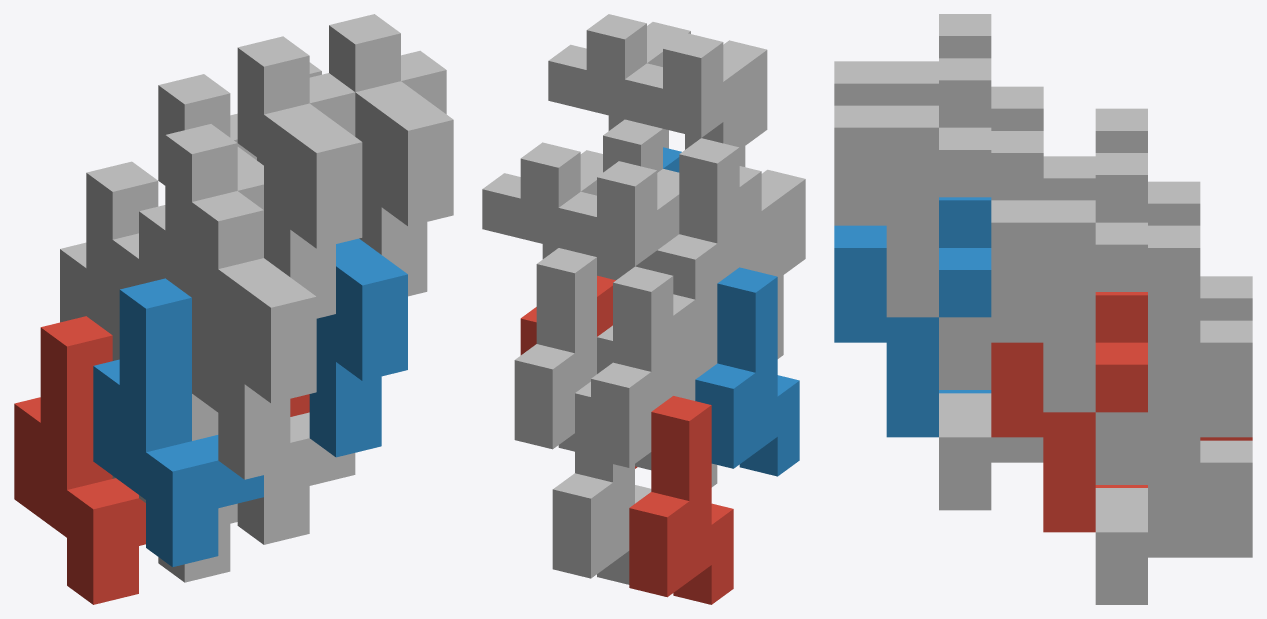
The model's file is tiling.obj.
The picture shows the model from 3 angles, left to right: view 1: azimuth 30°, elevation 25°; view 2: azimuth 150°, elevation 25°; view 3: azimuth 270°, elevation 25°; orthographic projection. The views are drawn at different scales.
Visible parts, largest first — view 1: copy_1_domain_2, copy_2_domain_2, copy_2_domain_4, copy_1_domain_1, copy_2_domain_8, copy_2_domain_6, copy_1_domain_4, copy_1_domain_3, copy_1_domain_6, copy_2_domain_3, copy_2_domain_1, copy_1_domain_5; view 2: copy_1_domain_1, copy_1_domain_2, copy_1_domain_3, copy_2_domain_4, copy_1_domain_7, copy_1_domain_4, copy_1_domain_5, copy_2_domain_3, copy_2_domain_8, copy_2_domain_7, copy_2_domain_2, copy_2_domain_1 (+2 smaller); view 3: copy_2_domain_8, copy_2_domain_7, copy_1_domain_7, copy_2_domain_6, copy_1_domain_5, copy_2_domain_5, copy_1_domain_8, copy_1_domain_6, copy_2_domain_4, copy_1_domain_3, copy_2_domain_3, copy_1_domain_4.
Boxes of the visible parts, <box> form: copy_1_domain_2: <box>93,278,263,567</box>; copy_2_domain_2: <box>192,191,316,479</box>; copy_2_domain_4: <box>237,36,362,318</box>; copy_1_domain_1: <box>14,316,145,604</box>; copy_2_domain_8: <box>329,14,453,296</box>; copy_2_domain_6: <box>309,238,407,457</box>; copy_1_domain_4: <box>139,124,237,412</box>; copy_1_domain_3: <box>60,161,158,360</box>; copy_1_domain_6: <box>237,412,355,544</box>; copy_2_domain_3: <box>158,74,263,209</box>; copy_2_domain_1: <box>112,233,218,502</box>; copy_1_domain_5: <box>112,476,237,582</box>; copy_1_domain_1: <box>629,396,733,604</box>; copy_1_domain_2: <box>695,267,799,476</box>; copy_1_domain_3: <box>591,266,695,469</box>; copy_2_domain_4: <box>625,32,767,166</box>; copy_1_domain_7: <box>514,248,596,451</box>; copy_1_domain_4: <box>657,138,761,339</box>; copy_1_domain_5: <box>552,381,651,584</box>; copy_2_domain_3: <box>558,161,679,277</box>; copy_2_domain_8: <box>548,14,690,148</box>; copy_2_domain_7: <box>482,142,602,258</box>; copy_2_domain_2: <box>739,166,805,358</box>; copy_2_domain_1: <box>597,294,717,487</box>; copy_2_domain_8: <box>834,58,991,317</box>; copy_2_domain_7: <box>991,153,1147,412</box>; copy_1_domain_7: <box>1095,225,1252,484</box>; copy_2_domain_6: <box>834,197,991,437</box>; copy_1_domain_5: <box>1095,437,1252,604</box>; copy_2_domain_5: <box>991,292,1147,532</box>; copy_1_domain_8: <box>939,131,1043,389</box>; copy_1_domain_6: <box>939,393,1043,510</box>; copy_2_domain_4: <box>834,14,991,105</box>; copy_1_domain_3: <box>1148,181,1252,320</box>; copy_2_domain_3: <box>1043,108,1147,200</box>; copy_1_domain_4: <box>991,86,1043,130</box>.
Size of the model in its own units: 6 by 12 by 8.
